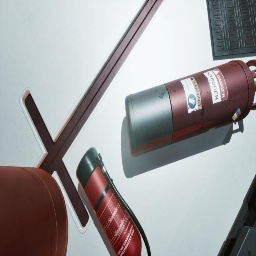FireExtinguisher ]: (76, 147, 151, 256)
NitrogenTank ,: (125, 59, 256, 158)
